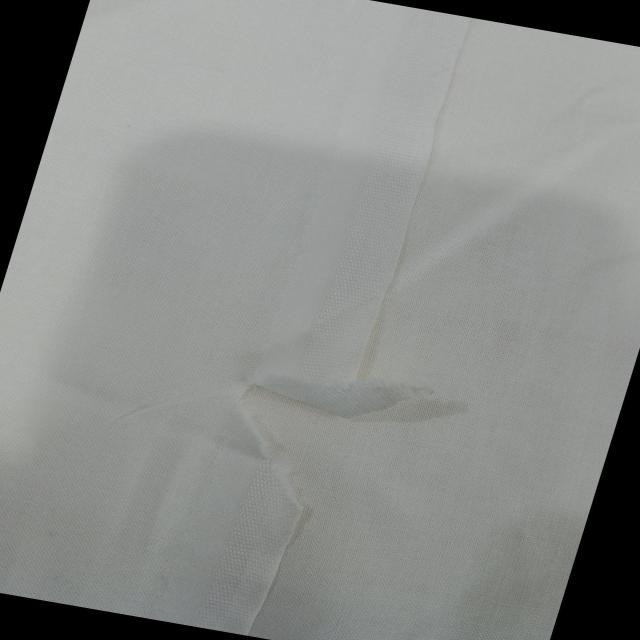cut: (217, 358, 433, 501)
